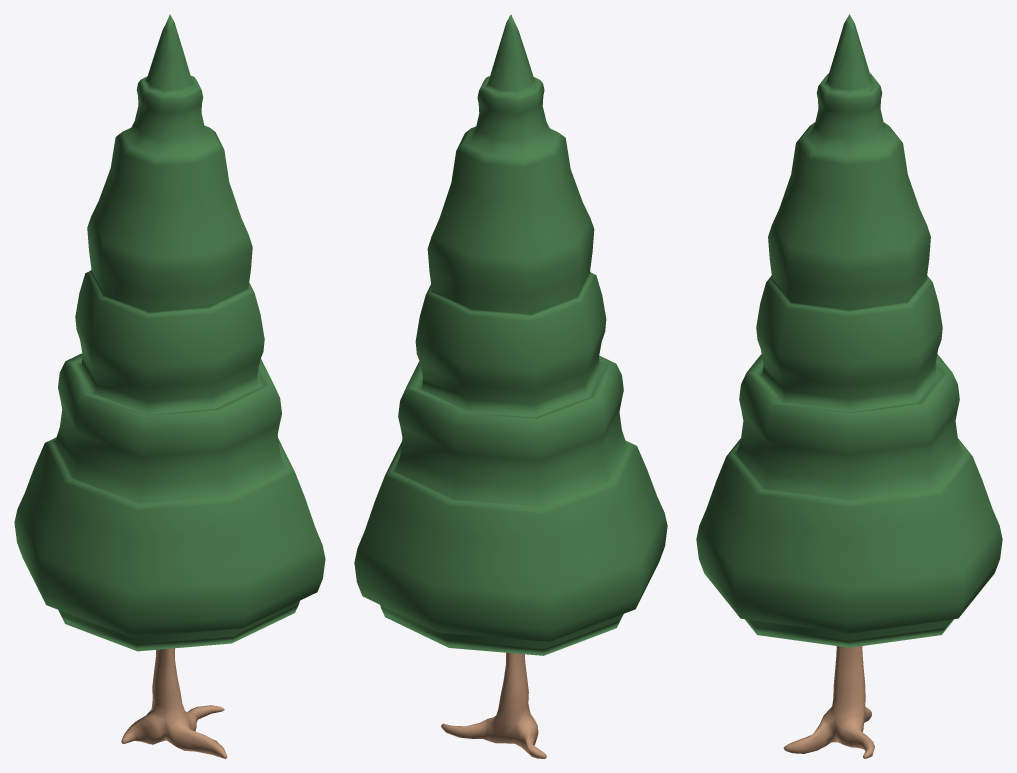
Rendered from Fir_tree_somwhat_better.fbx.
3 views of the same model, side by side, from view 1: azimuth 30°, elevation 25°; view 2: azimuth 150°, elevation 25°; view 3: azimuth 270°, elevation 25° (orthographic).
Visible parts, largest first — view 1: pCube3; view 2: pCube3; view 3: pCube3.
Part boxes in pixels (x1,y1,x2,y2): pCube3: [14, 14, 325, 758]; pCube3: [354, 14, 667, 758]; pCube3: [696, 14, 1002, 758].
Size of the model in its own units: 488 by 1303 by 497.
